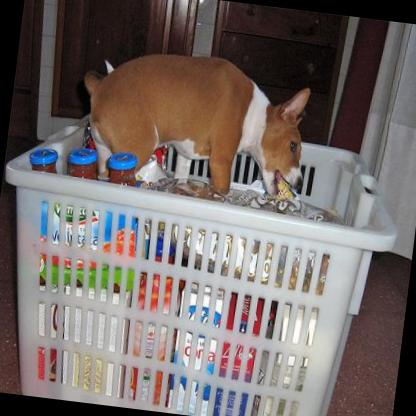basenji: (69, 37, 318, 204)
